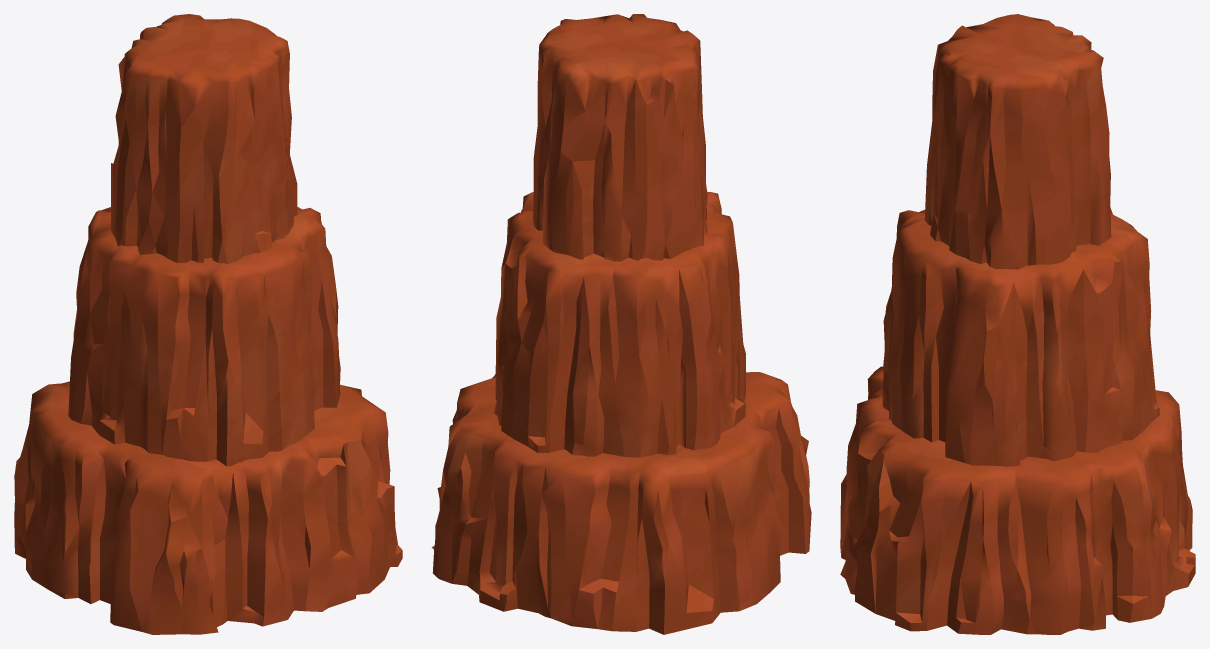
The model's file is Mesa_Big_Rock.fbx.
3 views of the same model, side by side, from view 1: azimuth 30°, elevation 25°; view 2: azimuth 150°, elevation 25°; view 3: azimuth 270°, elevation 25° (orthographic).
Parts seen in each view (by area): view 1: pCube85; view 2: pCube85; view 3: pCube85.
Boxes of the visible parts, left/top/right/bottom form: pCube85: left=14, top=14, right=402, bottom=634; pCube85: left=431, top=14, right=811, bottom=634; pCube85: left=840, top=14, right=1195, bottom=634.
Bounding box in the file's own units: 8.29 × 13.13 × 8.26.
